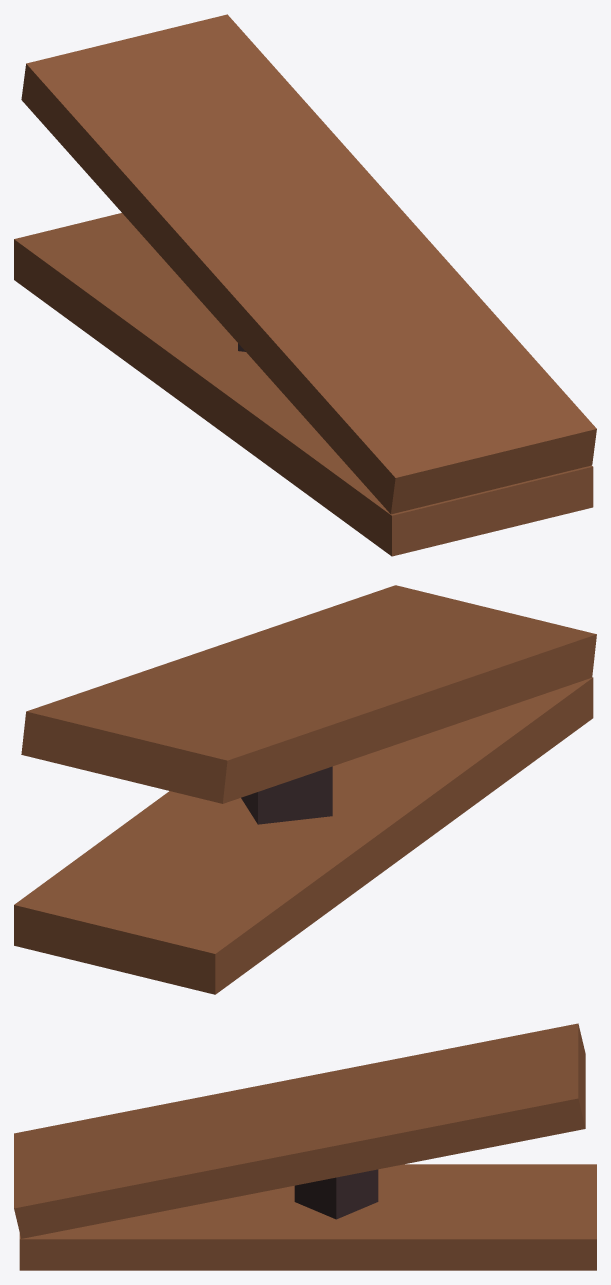
File: bumper.fbx
The picture shows the model from 3 angles, top to bottom: view 1: azimuth 30°, elevation 25°; view 2: azimuth 150°, elevation 25°; view 3: azimuth 270°, elevation 25°; orthographic projection. The views are drawn at different scales.
Visible parts, largest first — view 1: Cube.001, Cube; view 2: Cube.001, Cube, Cylinder; view 3: Cube.001, Cube, Cylinder.
Boxes of the visible parts, left/top/right/bottom form: Cube.001: left=21, top=14, right=596, bottom=514; Cube: left=14, top=213, right=593, bottom=556; Cube.001: left=21, top=585, right=596, bottom=803; Cube: left=14, top=677, right=593, bottom=994; Cylinder: left=241, top=766, right=332, bottom=824; Cube.001: left=14, top=1023, right=585, bottom=1238; Cube: left=19, top=1164, right=596, bottom=1270; Cylinder: left=294, top=1169, right=378, bottom=1219.
Bounding box in the file's own units: 0.2501 × 0.2674 × 0.8209.
